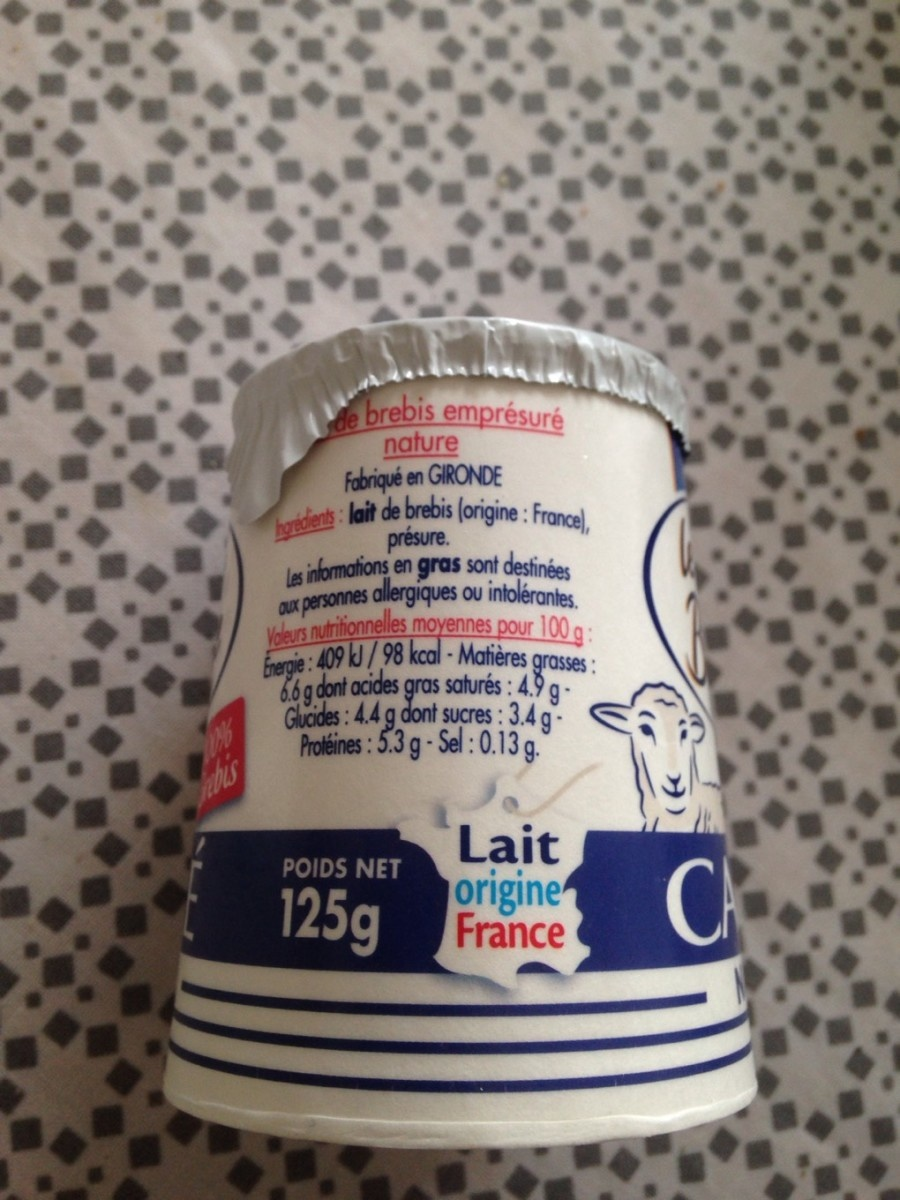ingredients: (267, 498, 606, 613)
